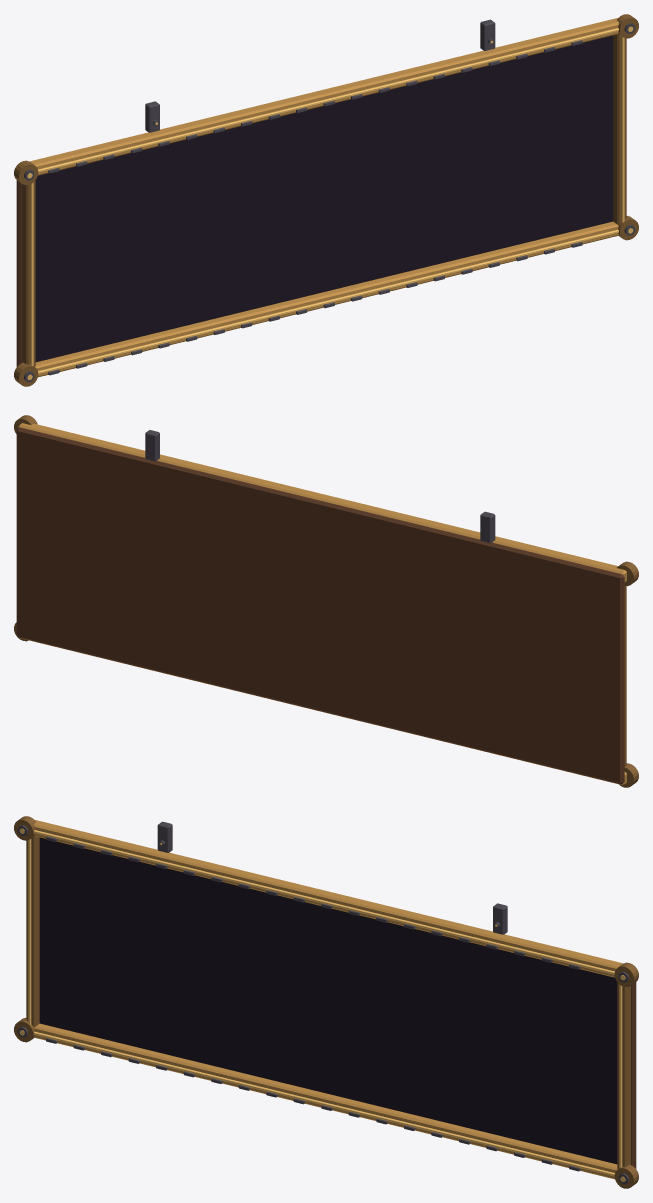
File: SM_S3Bridge_ProjectionScreen.fbx
3 renders of one model, top to bottom at view 1: azimuth 30°, elevation 25°; view 2: azimuth 150°, elevation 25°; view 3: azimuth 330°, elevation 25°, orthographic.
Parts seen in each view (by area): view 1: SM_S3Bridge_ProjectionScreen; view 2: SM_S3Bridge_ProjectionScreen; view 3: SM_S3Bridge_ProjectionScreen.
Boxes of the visible parts, x1,y1,x2,y2 form: SM_S3Bridge_ProjectionScreen: (14, 14, 638, 386); SM_S3Bridge_ProjectionScreen: (14, 415, 638, 787); SM_S3Bridge_ProjectionScreen: (14, 816, 638, 1188).
Bounding box in the file's own units: 766 × 27.1 × 288.
